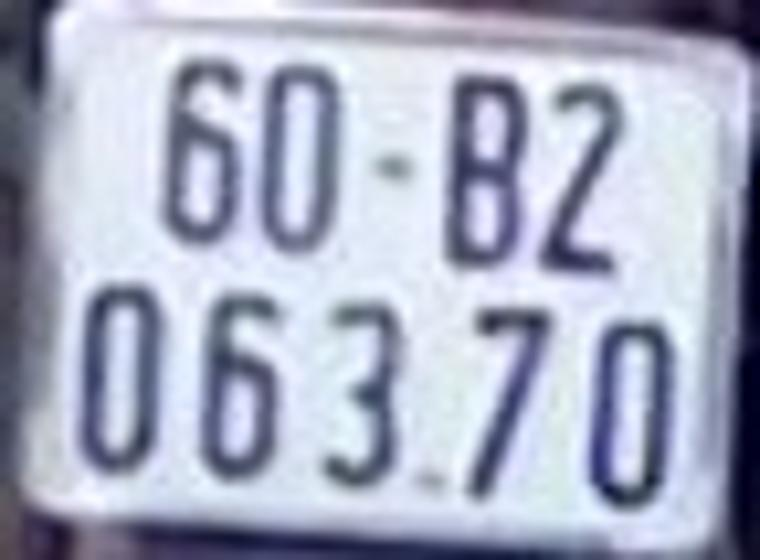-: (364, 149, 417, 186)
.: (412, 462, 454, 498)
0: (254, 56, 345, 254), (78, 279, 167, 471), (588, 319, 676, 507)
2: (534, 76, 620, 280)
3: (317, 292, 406, 483)
6: (151, 56, 247, 248), (201, 287, 278, 482)
7: (461, 296, 558, 505)
B: (434, 61, 528, 263)
